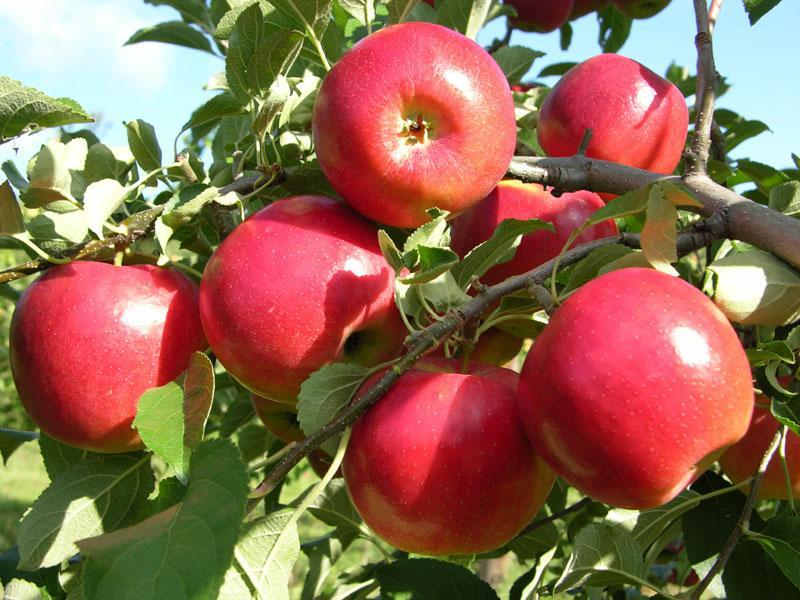apple: (514, 271, 750, 508), (193, 199, 404, 412), (310, 16, 512, 225), (6, 257, 207, 454), (346, 365, 544, 554), (449, 178, 620, 294), (537, 54, 687, 178), (706, 410, 798, 498)
